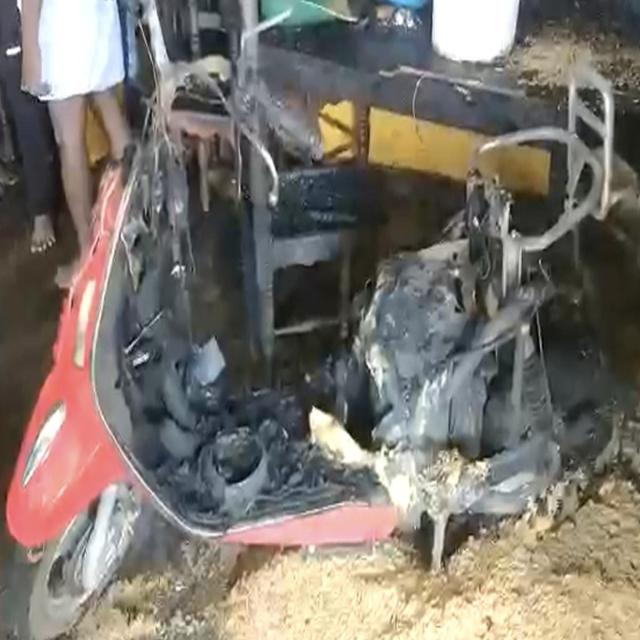accident: (6, 134, 561, 637)
